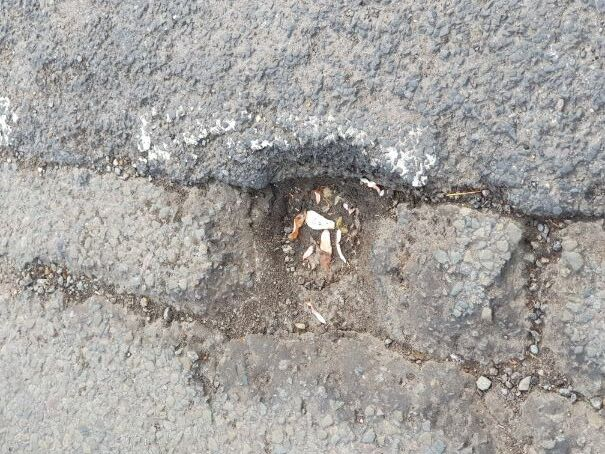pothole: (178, 128, 435, 356)
